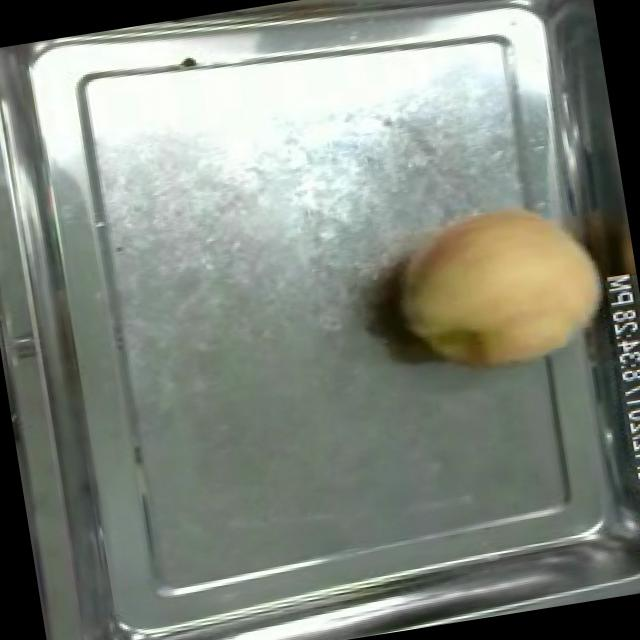Fruit: (376, 178, 630, 392)
